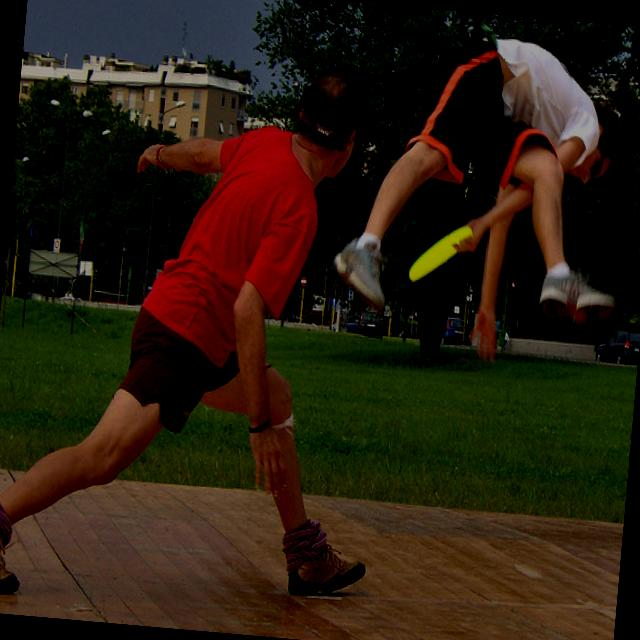Vehicle: (594, 327, 640, 365), (356, 308, 386, 338), (442, 316, 471, 346), (399, 326, 416, 338)
